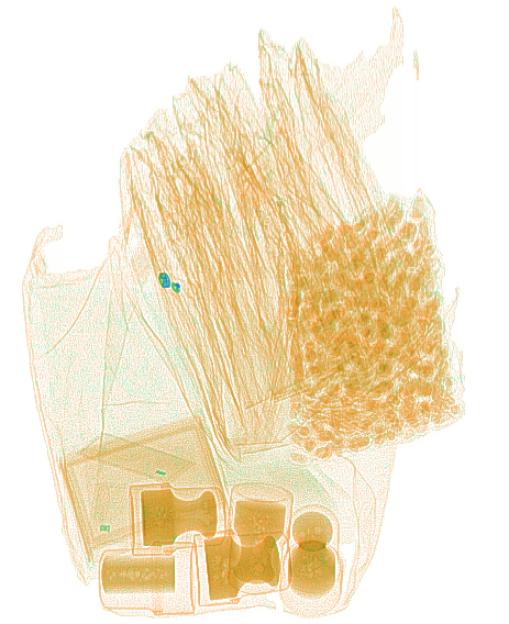seal: (203, 535, 279, 602), (139, 488, 218, 547), (232, 499, 285, 582), (287, 512, 336, 597)
